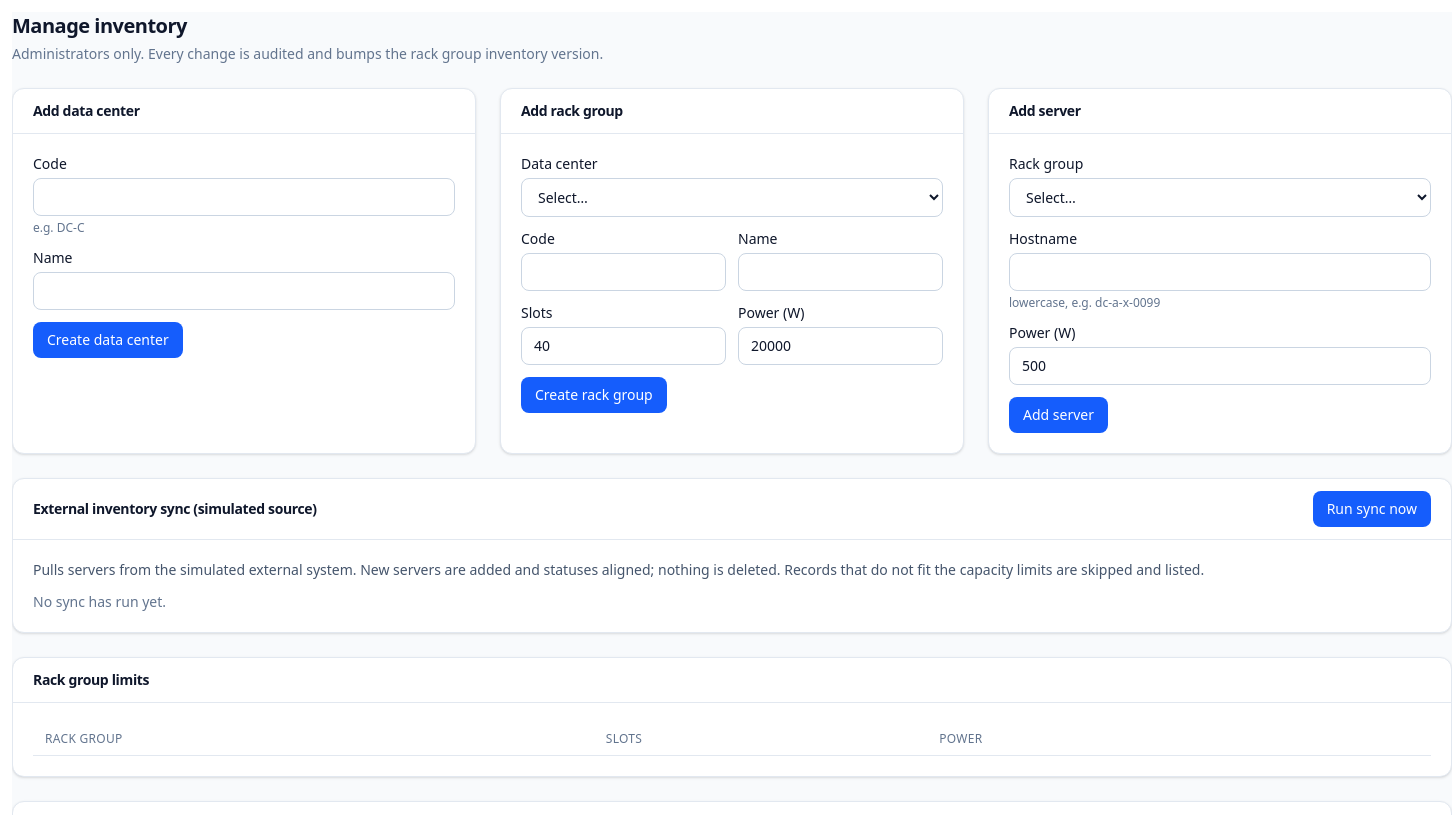
Test: inventory sync card › runs a sync and reports the outcome
Click the button "Run sync now" at {"x": 1372, "y": 509}, box top-left (1313, 491), bottom-right (1431, 527)
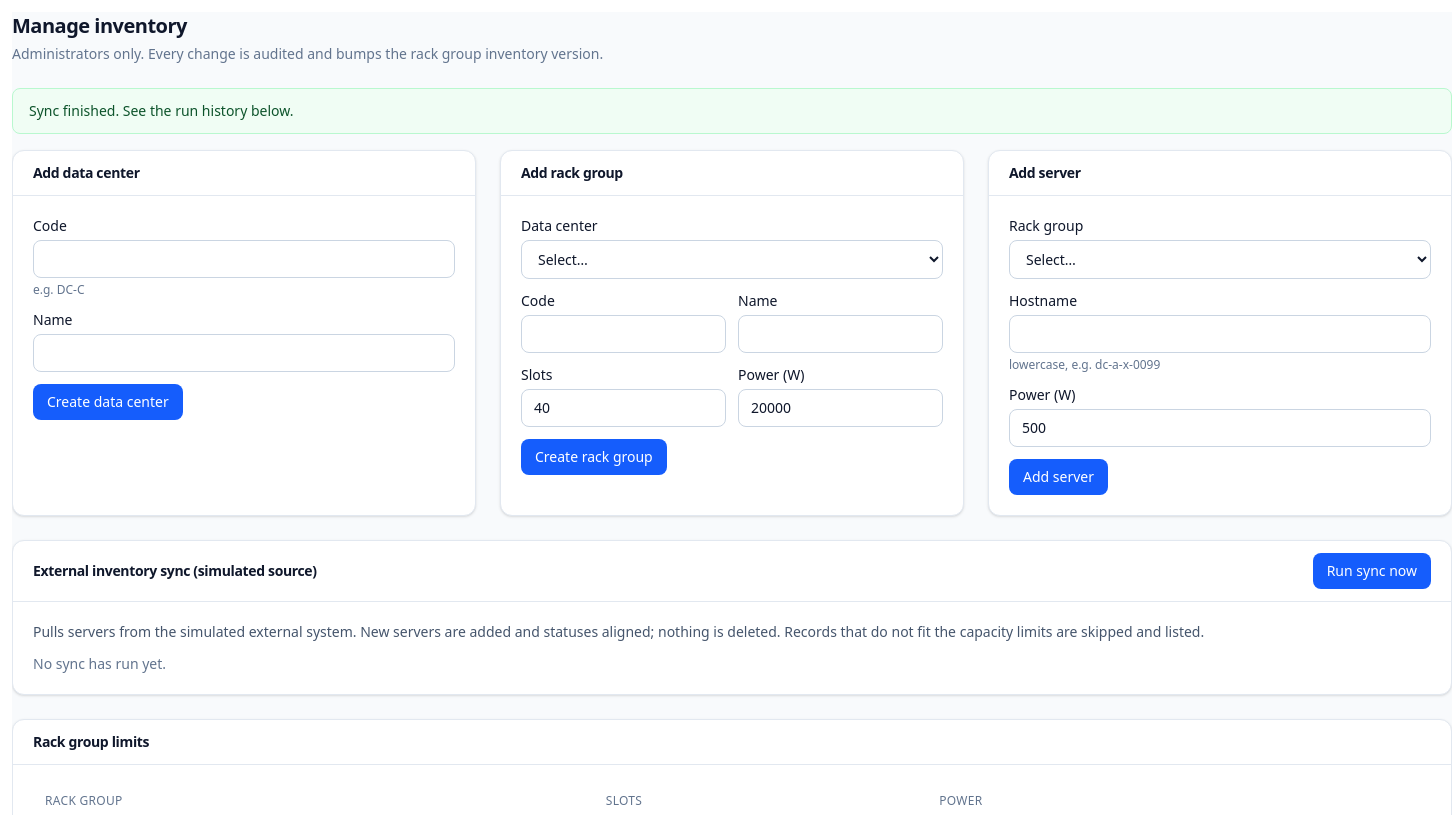
Now the text "Sync finished. See the run history below." is shown, box top-left (12, 88), bottom-right (1451, 134)
